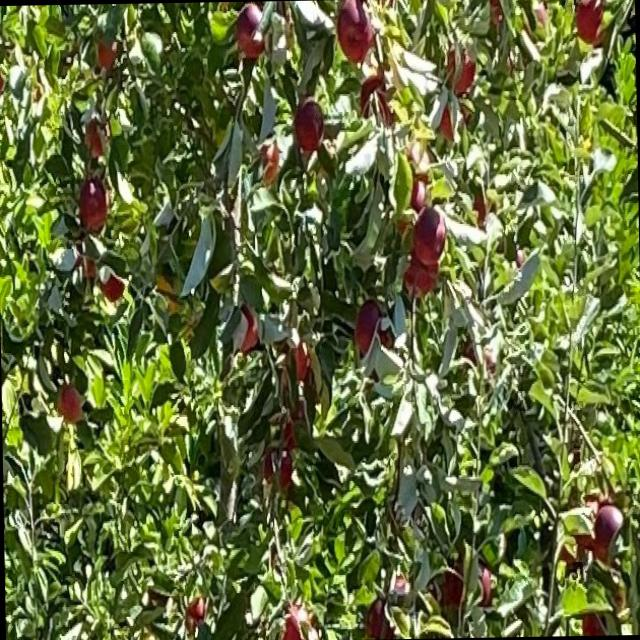Apples: (261, 412, 298, 488), (335, 0, 371, 63), (354, 298, 386, 356), (359, 74, 392, 130), (412, 207, 444, 264), (454, 560, 492, 606), (592, 502, 622, 558), (294, 99, 323, 150), (78, 178, 107, 228), (573, 0, 605, 44), (448, 42, 473, 94), (238, 2, 262, 56), (278, 604, 310, 639), (366, 596, 392, 638), (404, 253, 435, 288), (438, 99, 463, 135), (98, 266, 124, 300), (83, 116, 105, 156), (580, 606, 611, 634), (236, 304, 254, 352), (290, 334, 308, 378), (59, 382, 79, 418), (95, 36, 116, 67)
